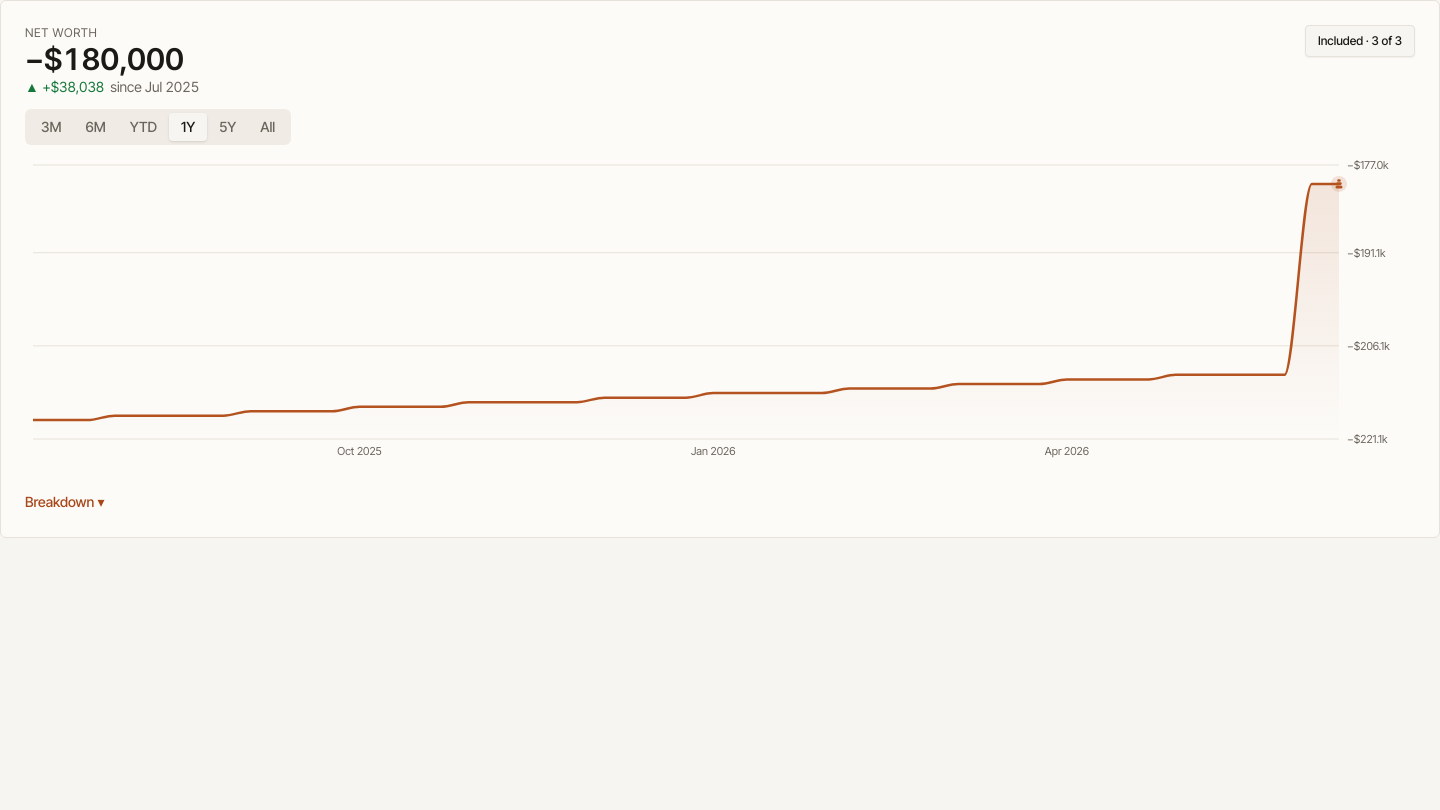
Test: AssetValueChart — skeleton › All / None shortcuts work
Click the button "Included · 3 of 3" at (1360, 41), box [1305, 25, 1415, 57]
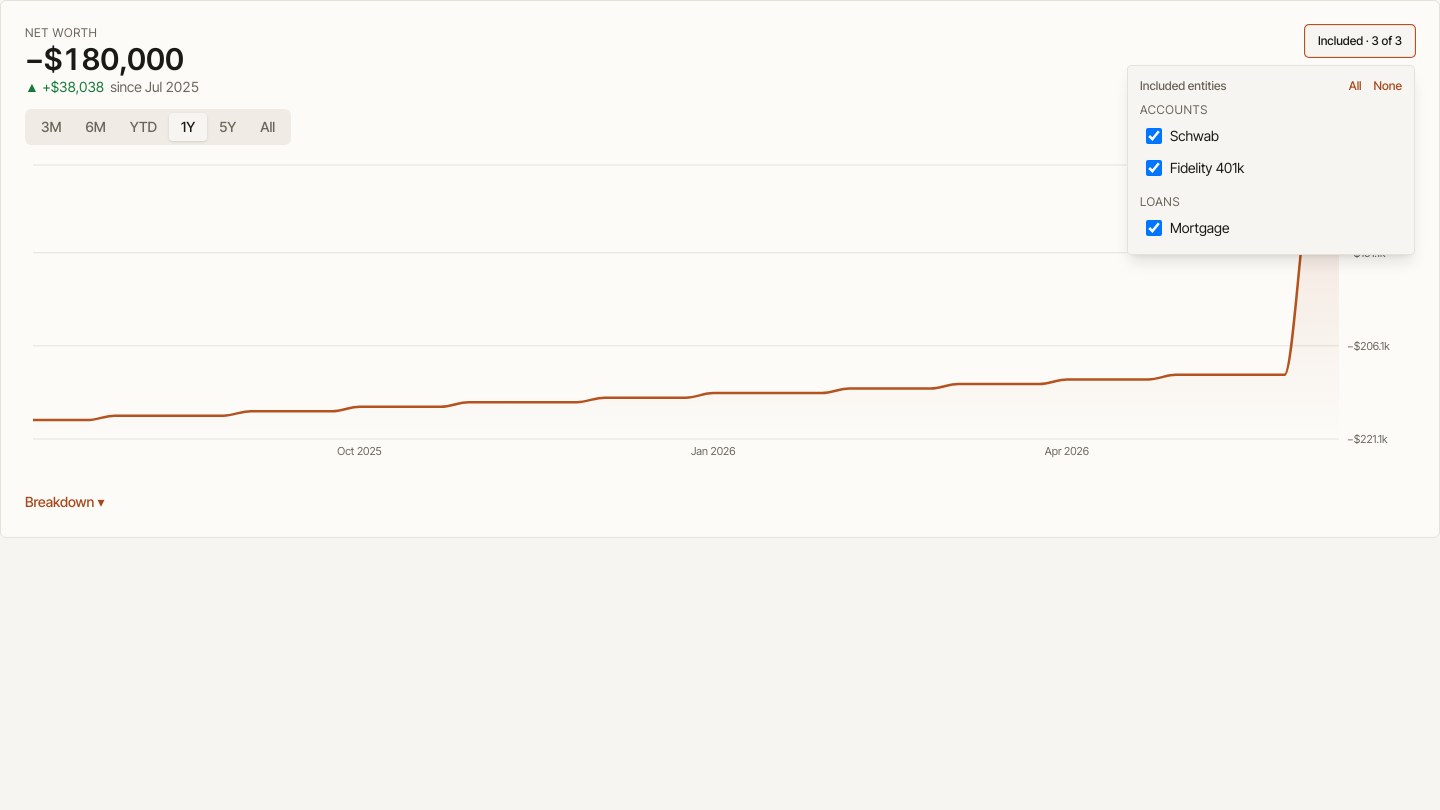
Click the button "None" at (1388, 86), box [1374, 78, 1402, 94]
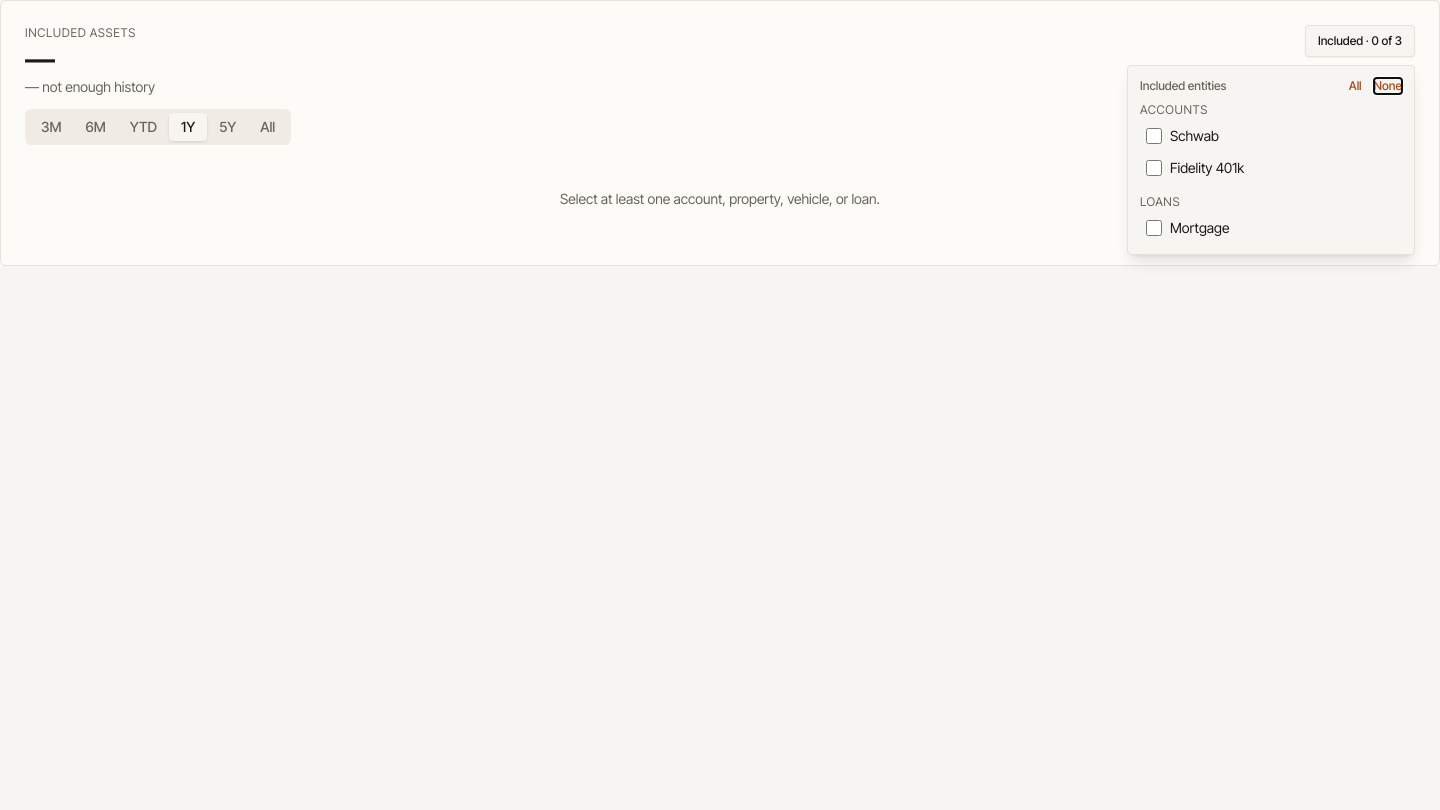
Now the text "Select at least one account, property, vehicle, or loan." is shown, box [560, 190, 880, 207]
Click the button "All" at (1355, 86), box [1349, 78, 1362, 94]
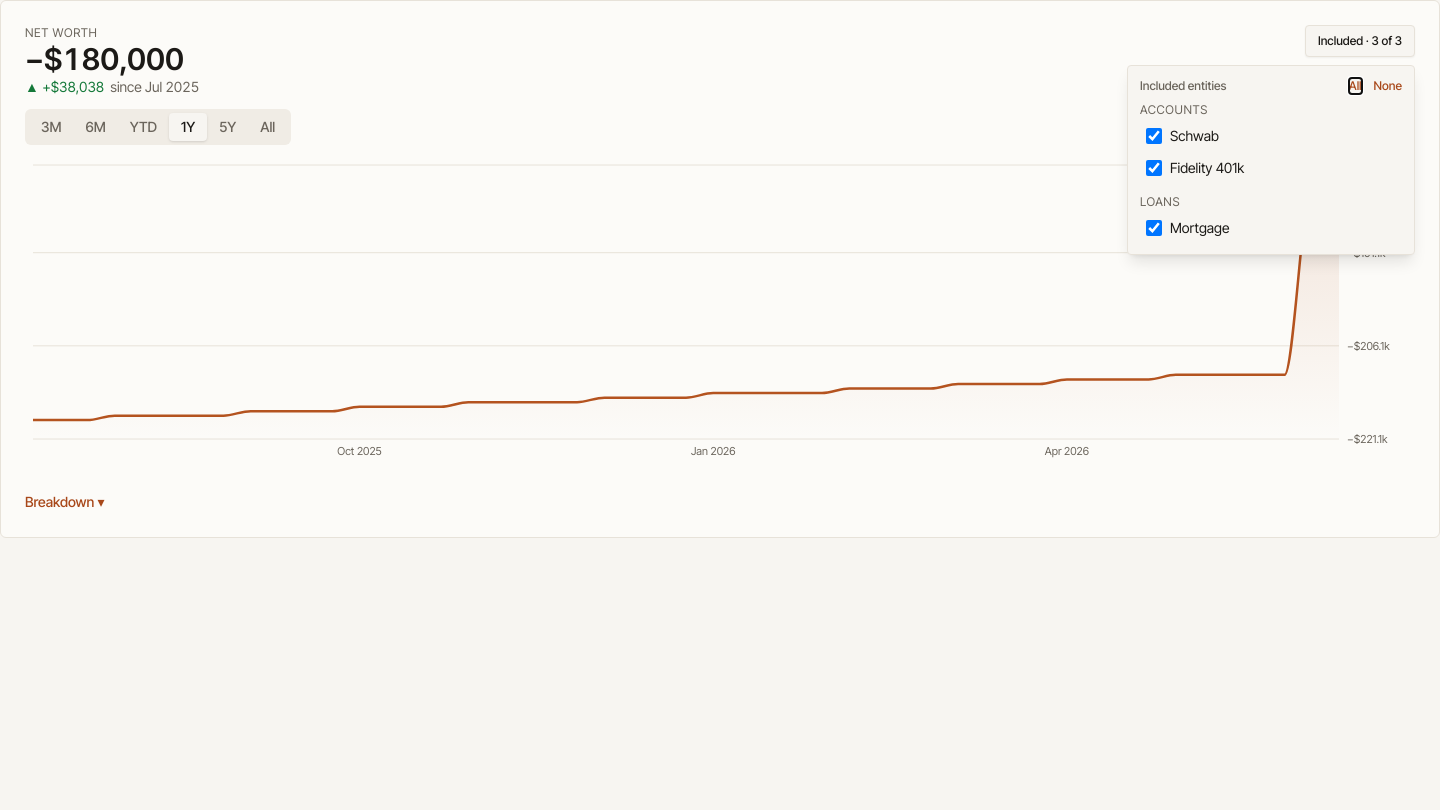
Now the button "Included · 3 of 3" is shown, box [1305, 25, 1415, 57]
